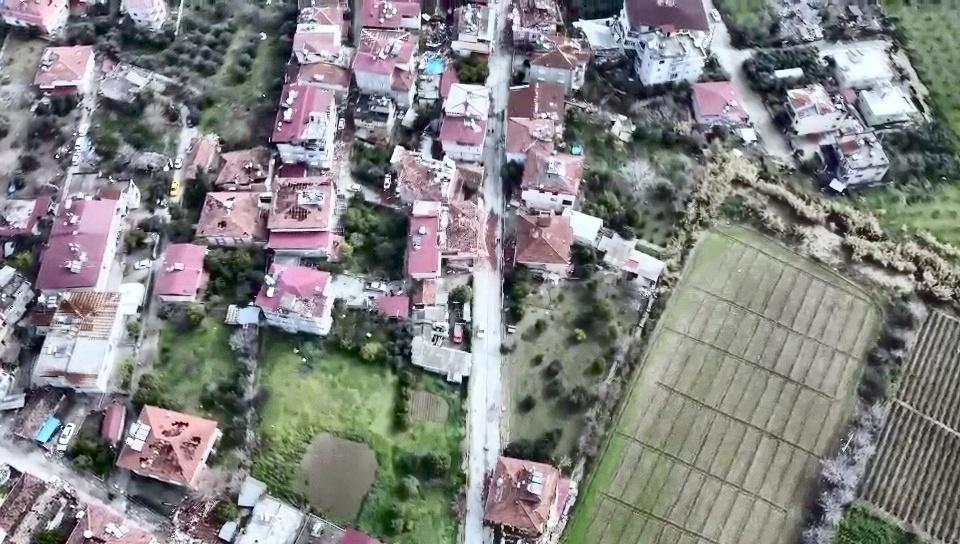kapali: (473, 188, 502, 286)
